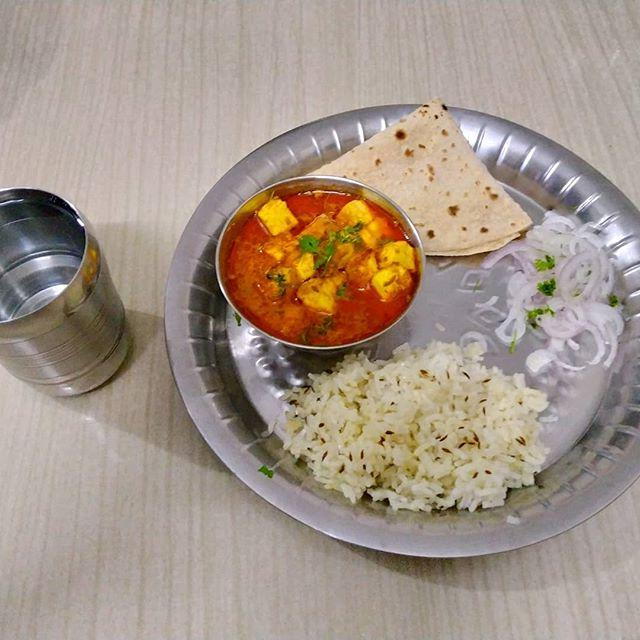Roti: (294, 102, 528, 249)
White Rice: (256, 346, 563, 519)
